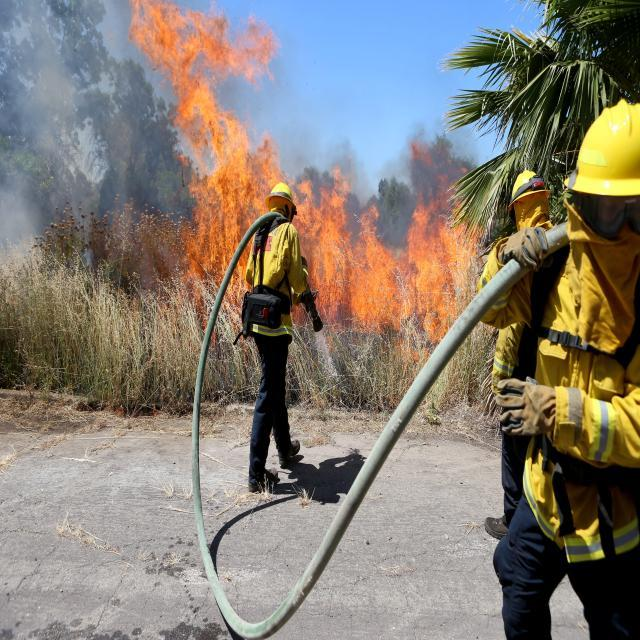Fire: (120, 0, 493, 338)
Smoke: (0, 0, 116, 280)
